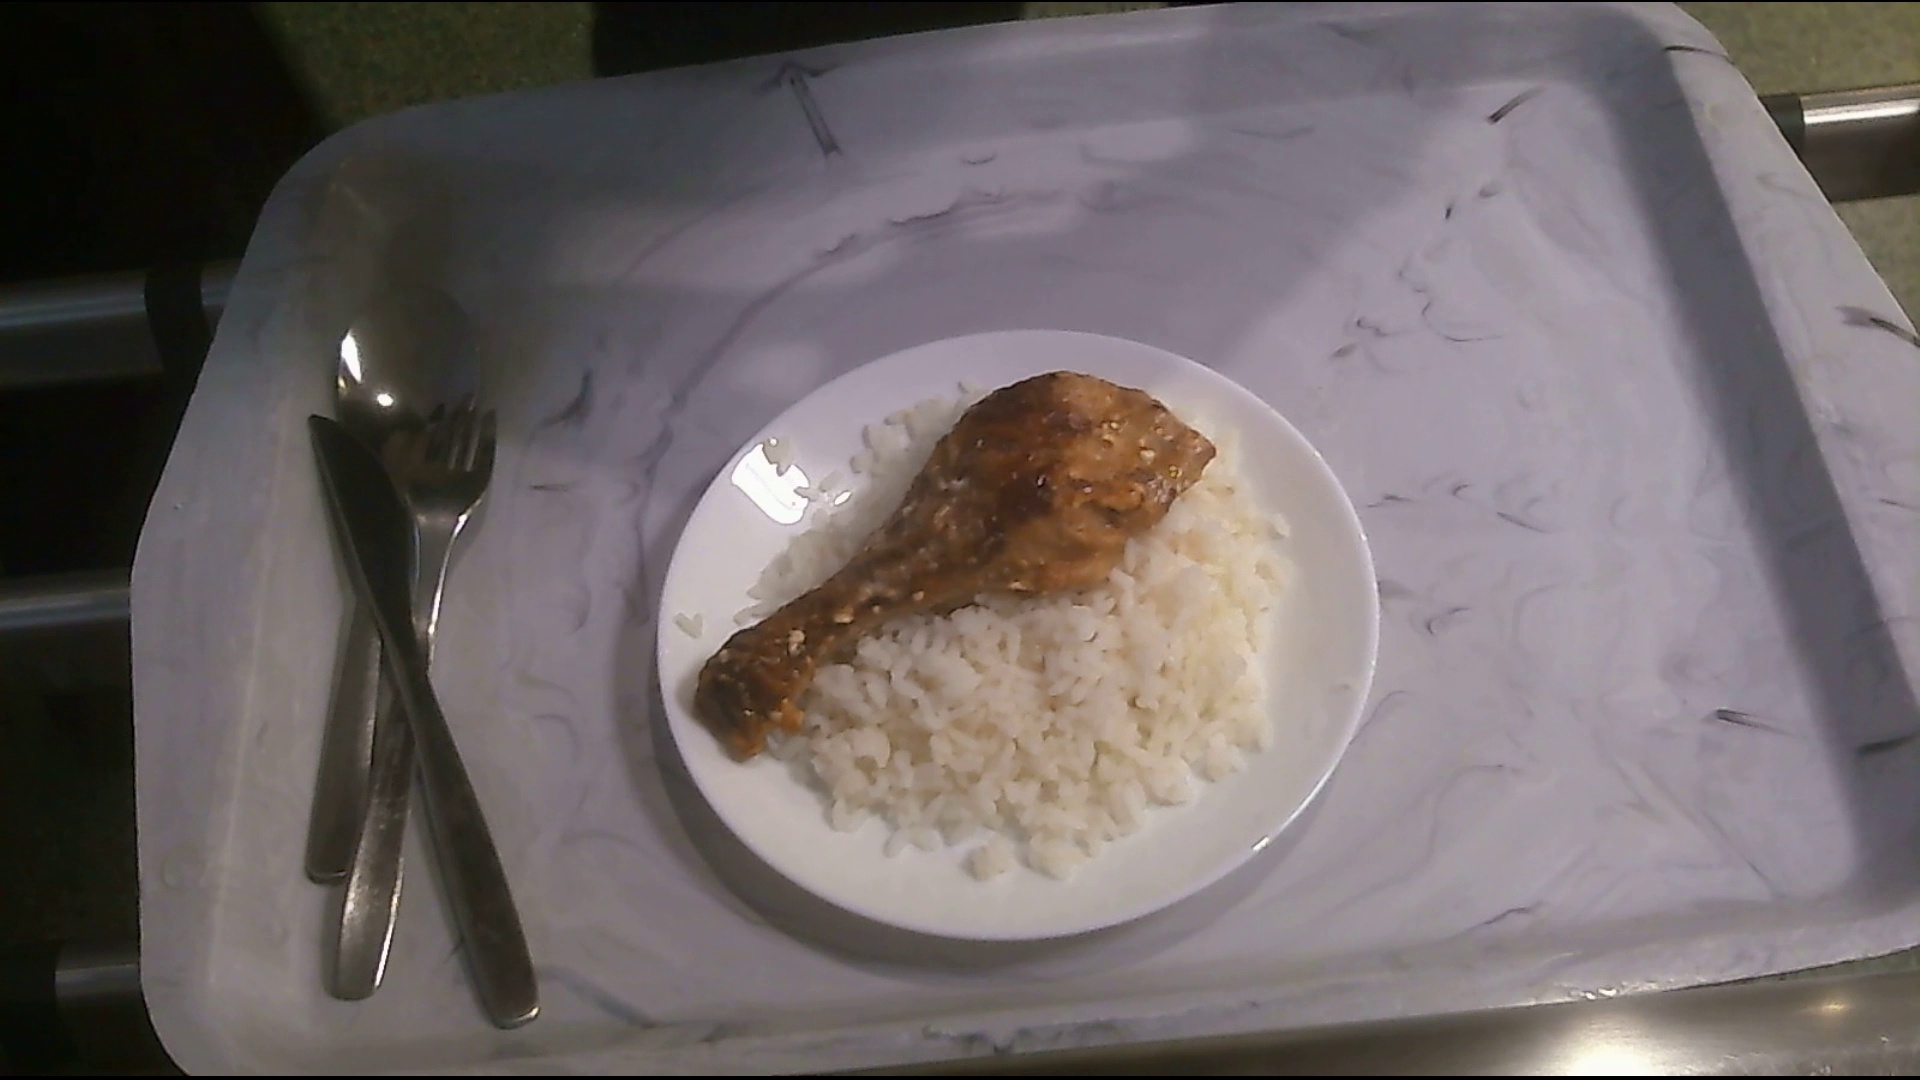cutlery: (301, 295, 550, 1025)
plate: (658, 327, 1375, 932)
